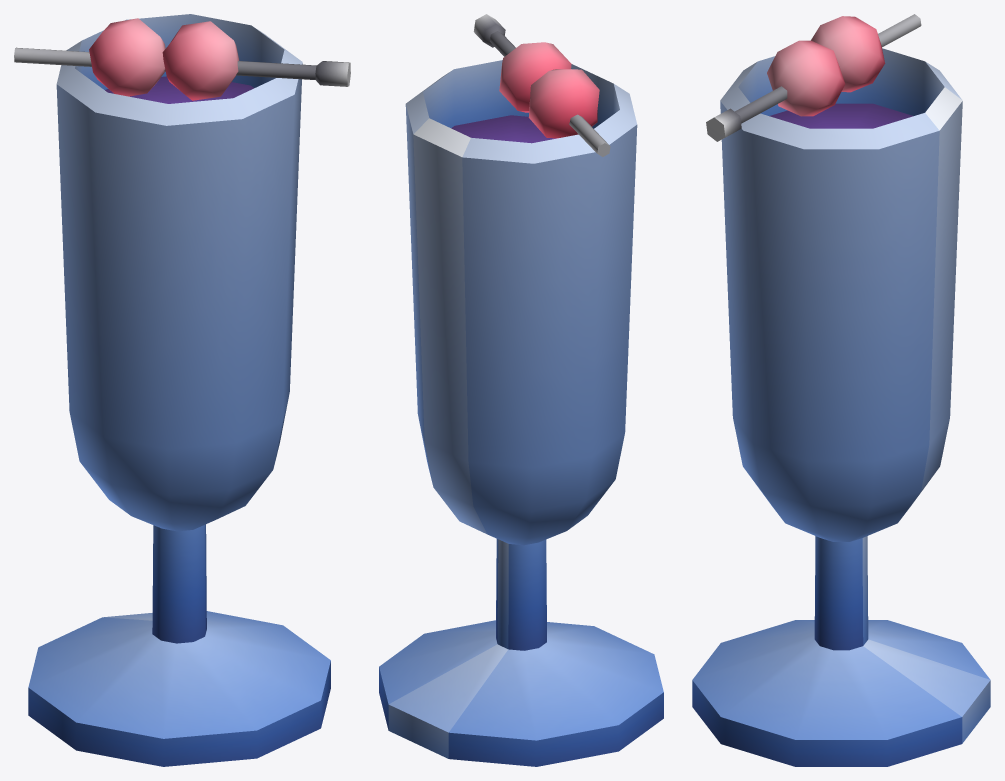
Rendered from m_Cocktail05.fbx.
3 renders of one model, left to right at view 1: azimuth 30°, elevation 25°; view 2: azimuth 150°, elevation 25°; view 3: azimuth 270°, elevation 25°, orthographic. The views are drawn at different scales.
Parts seen in each view (by area): view 1: m_Cocktail05; view 2: m_Cocktail05; view 3: m_Cocktail05.
Boxes of the visible parts, x1,y1,x2,y2 form: m_Cocktail05: (14, 14, 350, 766); m_Cocktail05: (379, 14, 663, 766); m_Cocktail05: (692, 14, 990, 766).
Bounding box in the file's own units: 9.61 × 24.61 × 10.
